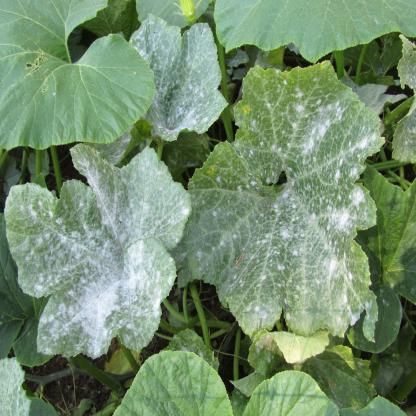Squash Powdery mildew leaf: (170, 56, 390, 346), (0, 138, 198, 365), (132, 13, 232, 144)
